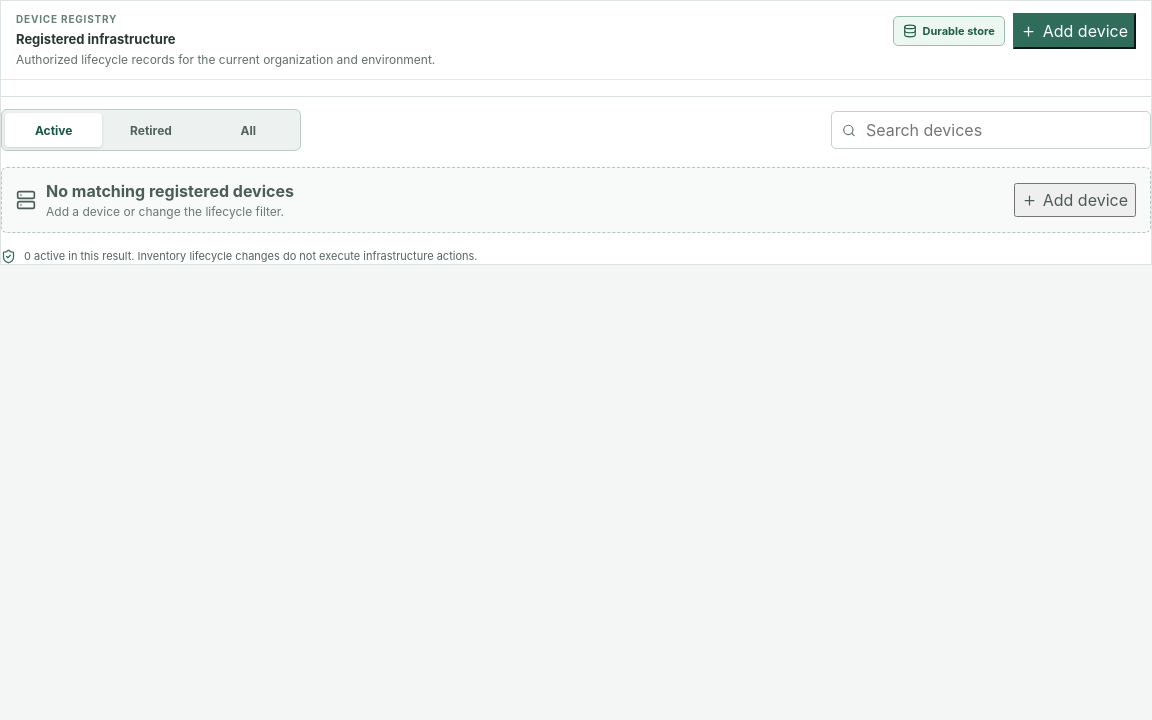
it: InventoryDeviceRegistryWorkspace › keeps add device visible and actionable when the authorized inventory is empty
Expected: the text "No matching registered devices" is shown, [46,181,294,201]
Click the button "Add device" in the row of "No matching registered devices" at (1075, 200), box [1014,183,1136,217]
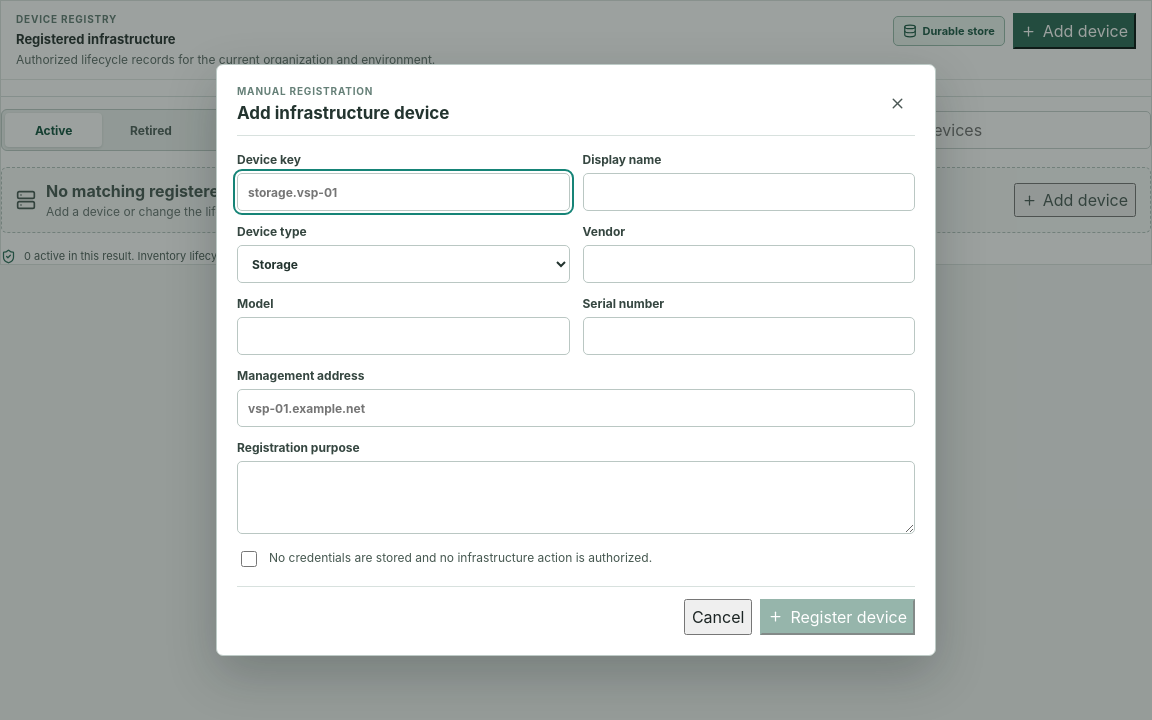
Now the dialog "Add infrastructure device" is shown
